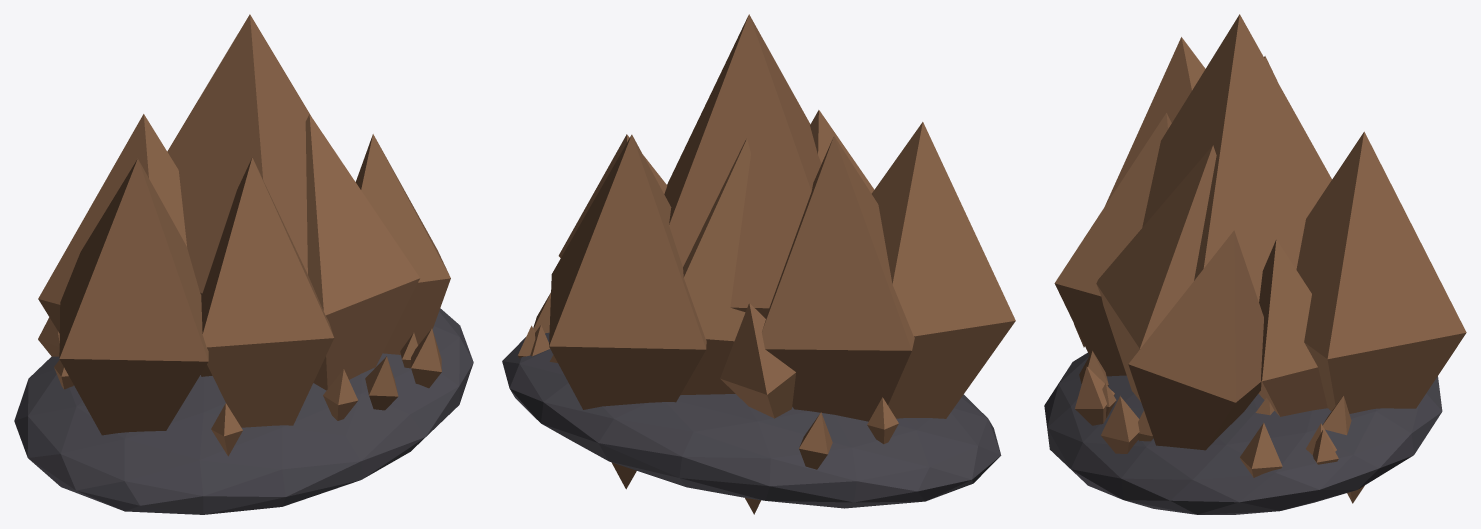
The model's file is thorite.glb.
3 renders of one model, left to right at view 1: azimuth 30°, elevation 25°; view 2: azimuth 150°, elevation 25°; view 3: azimuth 270°, elevation 25°, orthographic. The views are drawn at different scales.
Visible parts, largest first — view 1: Thorite; view 2: Thorite; view 3: Thorite.
Boxes of the visible parts, x1,y1,x2,y2 form: Thorite: (14,14,473,514); Thorite: (502,14,1015,514); Thorite: (1044,14,1466,514).
Bounding box in the file's own units: 4.01 × 4.22 × 3.22.
